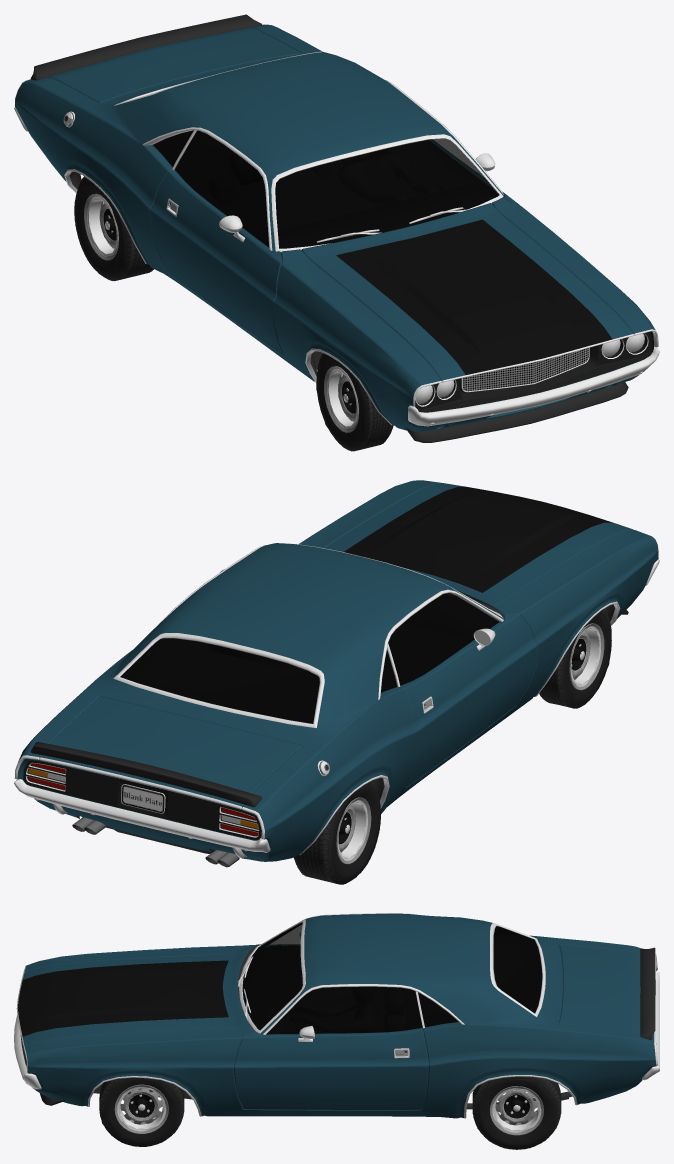
File: MuscleCar.fbx
3 renders of one model, top to bottom at view 1: azimuth 30°, elevation 25°; view 2: azimuth 150°, elevation 25°; view 3: azimuth 270°, elevation 25°, orthographic. The views are drawn at different scales.
Parts seen in each view (by area): view 1: MuscleCar, Generic_Ped, S_RRWheel, S_FRWheel, S_FRWheel_LOD, S_RRWheel_LOD, S_Extras; view 2: MuscleCar, S_RRWheel, S_RRWheel_LOD, S_FRWheel, S_FRWheel_LOD, Generic_Plates; view 3: MuscleCar, S_RLWheel, S_RLWheel_LOD, S_FLWheel_LOD, S_FLWheel, Generic_Ped.
Boxes of the visible parts, <box> form: MuscleCar: <box>14,14,659,442</box>; Generic_Ped: <box>337,148,436,205</box>; S_RRWheel: <box>74,176,153,281</box>; S_FRWheel: <box>316,353,392,451</box>; S_FRWheel_LOD: <box>316,353,393,451</box>; S_RRWheel_LOD: <box>74,178,152,280</box>; S_Extras: <box>63,111,469,242</box>; MuscleCar: <box>14,480,659,867</box>; S_RRWheel: <box>294,781,380,884</box>; S_RRWheel_LOD: <box>293,781,380,884</box>; S_FRWheel: <box>539,609,611,708</box>; S_FRWheel_LOD: <box>539,609,611,708</box>; Generic_Plates: <box>121,784,165,813</box>; MuscleCar: <box>14,913,659,1118</box>; S_RLWheel: <box>472,1076,561,1149</box>; S_RLWheel_LOD: <box>472,1077,561,1149</box>; S_FLWheel_LOD: <box>99,1077,184,1146</box>; S_FLWheel: <box>99,1077,184,1146</box>; Generic_Ped: <box>290,986,378,1033</box>.
Size of what is drawn, in the model's own units: 186 by 132 by 479.
